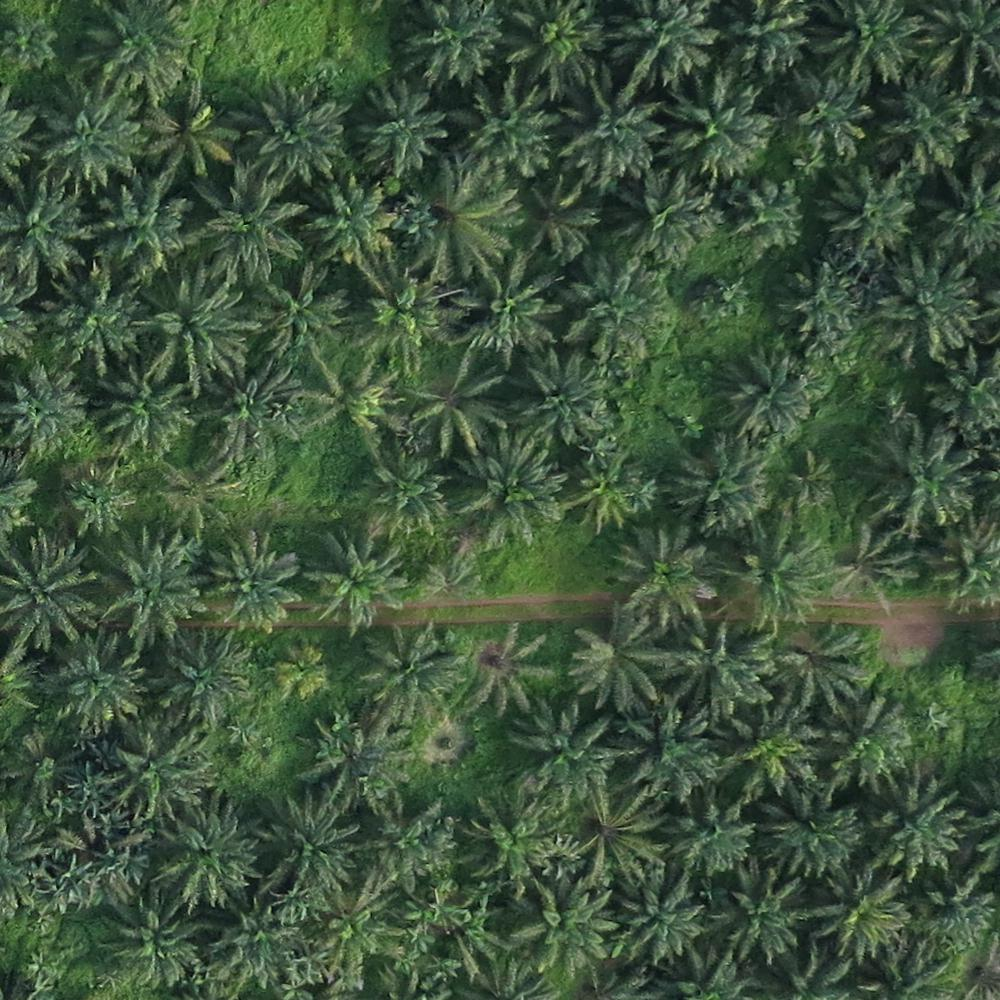Palm: (857, 414, 974, 524), (405, 161, 516, 276), (144, 271, 254, 383), (1, 534, 103, 649), (346, 261, 457, 366), (555, 72, 658, 185), (723, 519, 830, 626), (460, 430, 563, 538), (152, 627, 258, 730), (614, 530, 720, 633), (192, 174, 294, 281), (203, 531, 305, 634), (607, 165, 710, 267), (40, 83, 142, 184), (81, 4, 186, 102), (96, 358, 194, 462), (153, 812, 258, 909), (310, 701, 408, 804), (665, 75, 769, 172), (41, 269, 142, 368), (254, 794, 356, 891), (464, 255, 562, 355), (514, 878, 614, 976), (96, 901, 206, 990), (670, 438, 770, 535), (753, 786, 858, 878), (510, 699, 615, 791), (880, 257, 977, 356), (308, 532, 405, 630), (505, 1, 606, 95), (210, 373, 306, 471), (799, 871, 907, 958), (107, 539, 208, 632), (351, 80, 447, 176), (872, 778, 967, 875), (707, 866, 798, 967), (514, 354, 607, 452), (562, 256, 656, 352), (51, 643, 148, 736), (465, 80, 558, 177), (737, 523, 827, 623), (565, 260, 658, 356), (244, 89, 341, 181), (817, 167, 914, 258), (363, 625, 463, 713), (305, 349, 401, 440), (108, 734, 206, 823), (721, 345, 810, 442), (91, 181, 183, 274), (613, 1, 716, 84), (257, 265, 350, 356), (813, 1, 915, 82), (573, 619, 667, 706), (621, 707, 718, 791), (879, 83, 967, 174), (612, 869, 703, 957), (405, 1, 500, 85), (307, 174, 399, 260), (4, 180, 86, 276), (821, 706, 911, 793), (147, 93, 235, 181), (366, 449, 452, 538), (662, 792, 755, 874), (216, 911, 313, 989), (721, 708, 814, 789), (4, 368, 90, 455), (779, 262, 862, 347), (465, 793, 551, 875), (564, 449, 652, 529), (719, 2, 810, 78), (514, 178, 596, 258), (58, 462, 140, 538), (730, 181, 806, 254)
